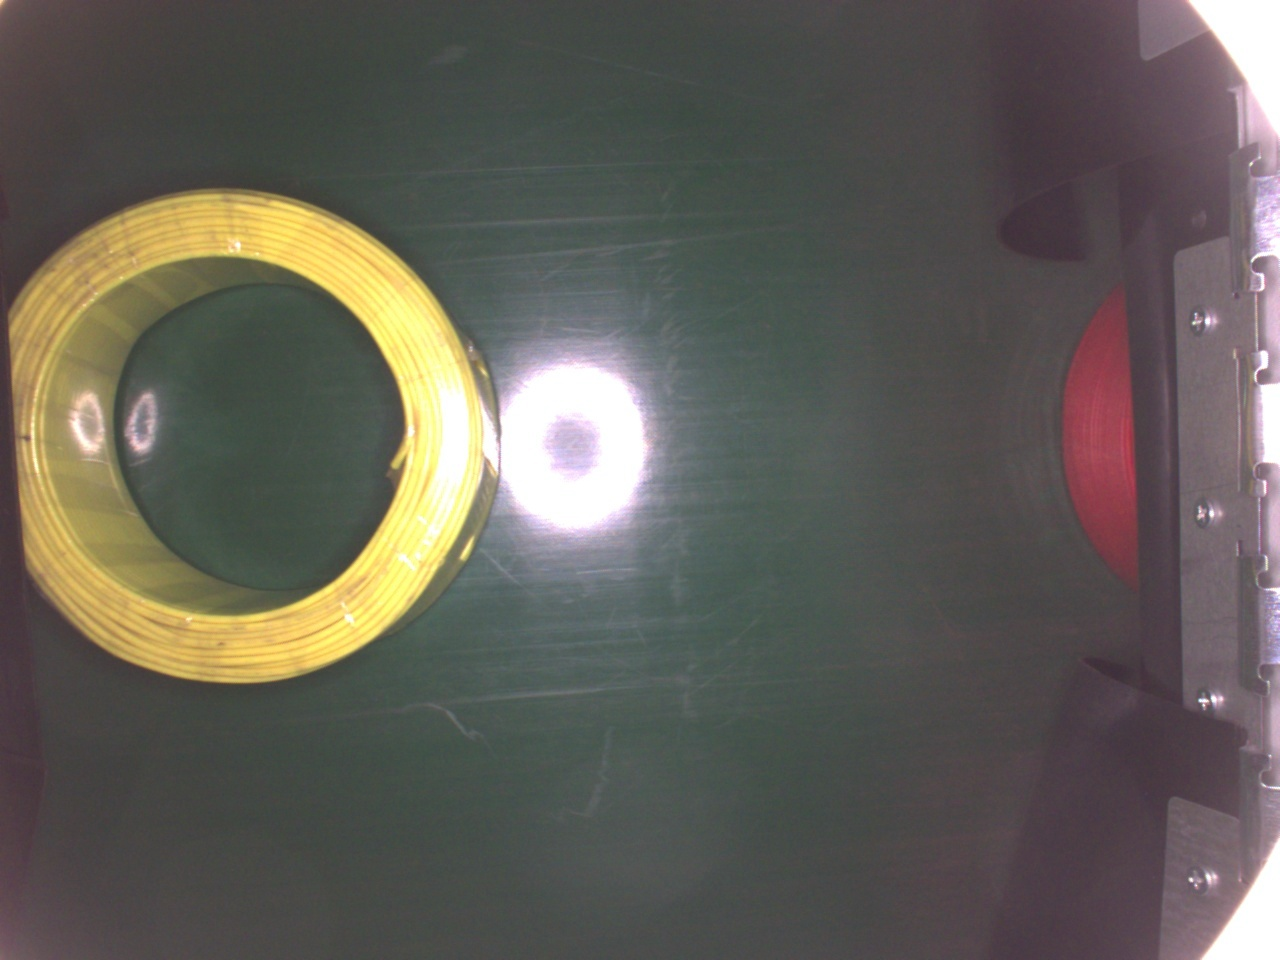yellow: (9, 186, 501, 686)
